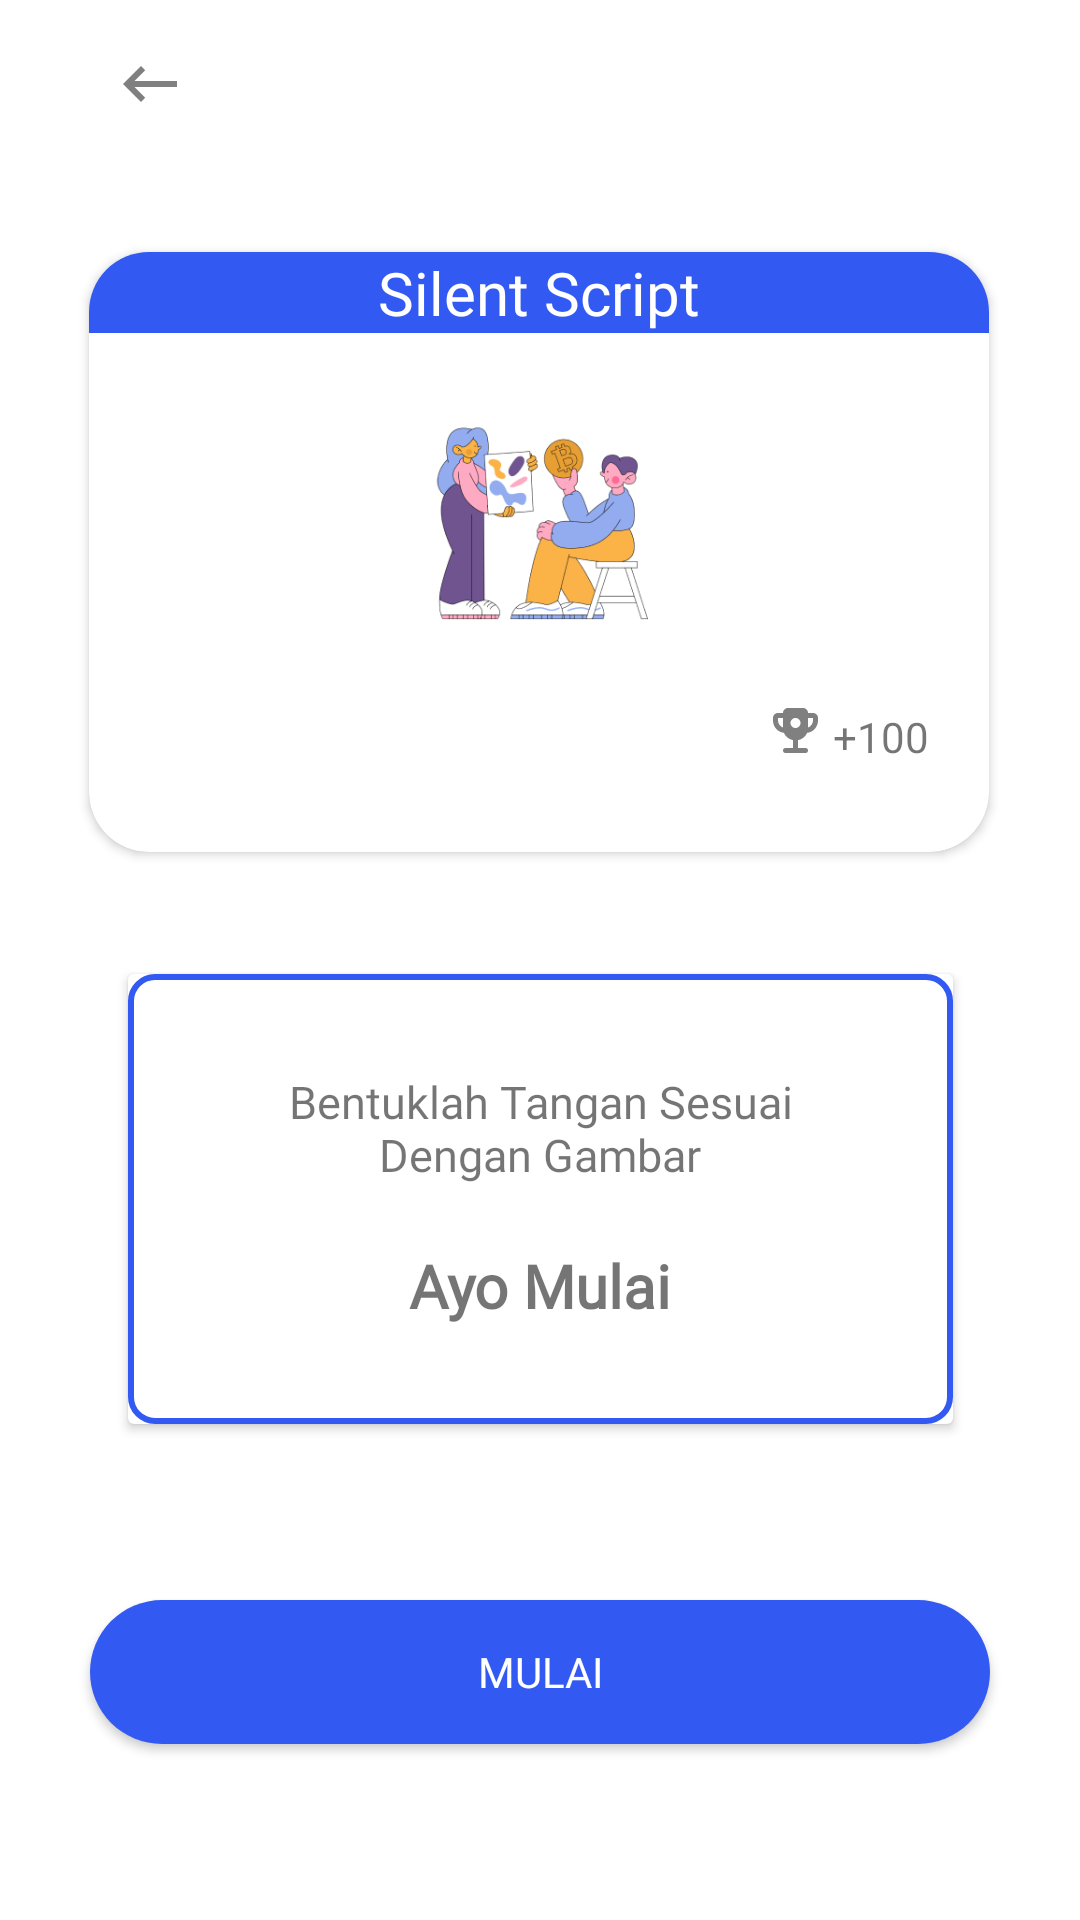

Point at icon controls on the screen. Image size 1080×1920, points as (x,y).
keyboard backspace: (150,84)
poin: (795,730)
